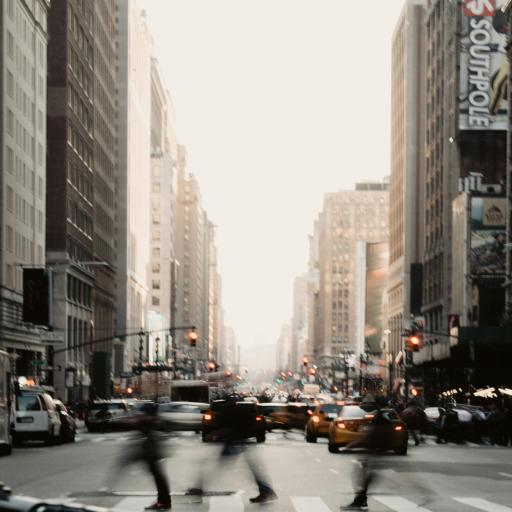car: (329, 403, 408, 454), (12, 387, 61, 445), (203, 400, 265, 442), (306, 401, 347, 442), (157, 402, 209, 433), (259, 403, 308, 431), (86, 400, 129, 431), (54, 400, 75, 442), (244, 397, 259, 404)
